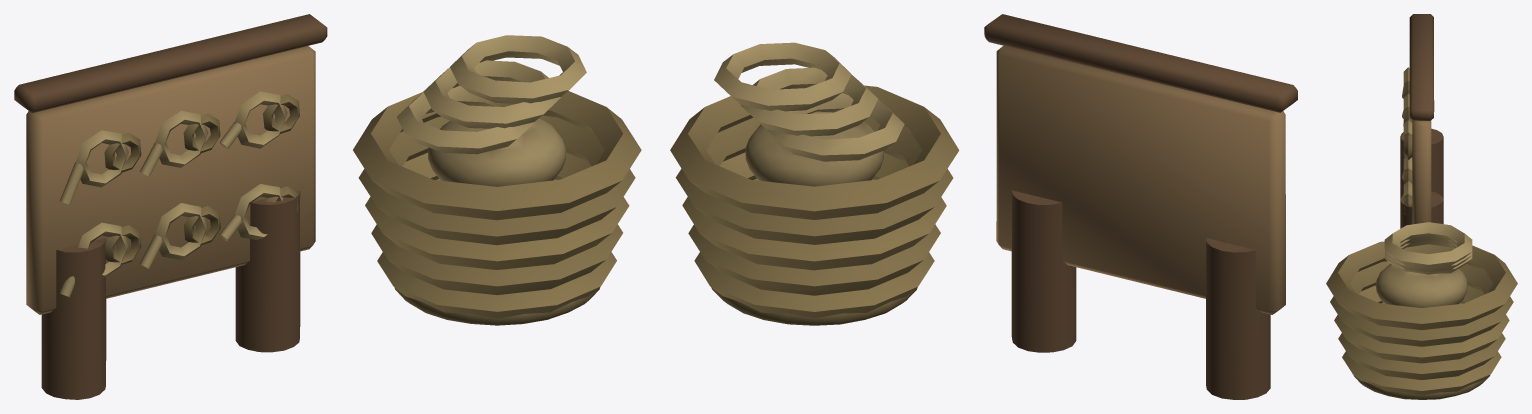
File: knot_board_a.glb
3 renders of one model, left to right at view 1: azimuth 30°, elevation 25°; view 2: azimuth 150°, elevation 25°; view 3: azimuth 270°, elevation 25°, orthographic. The views are drawn at different scales.
Parts seen in each view (by area): view 1: Surface; view 2: Surface; view 3: Surface.
Part boxes in pixels (bbox=[...]): Surface: bbox=[14, 14, 641, 399]; Surface: bbox=[670, 14, 1297, 399]; Surface: bbox=[1326, 14, 1517, 399].
Bounding box in the file's own units: 3.41 × 1.67 × 1.42.
